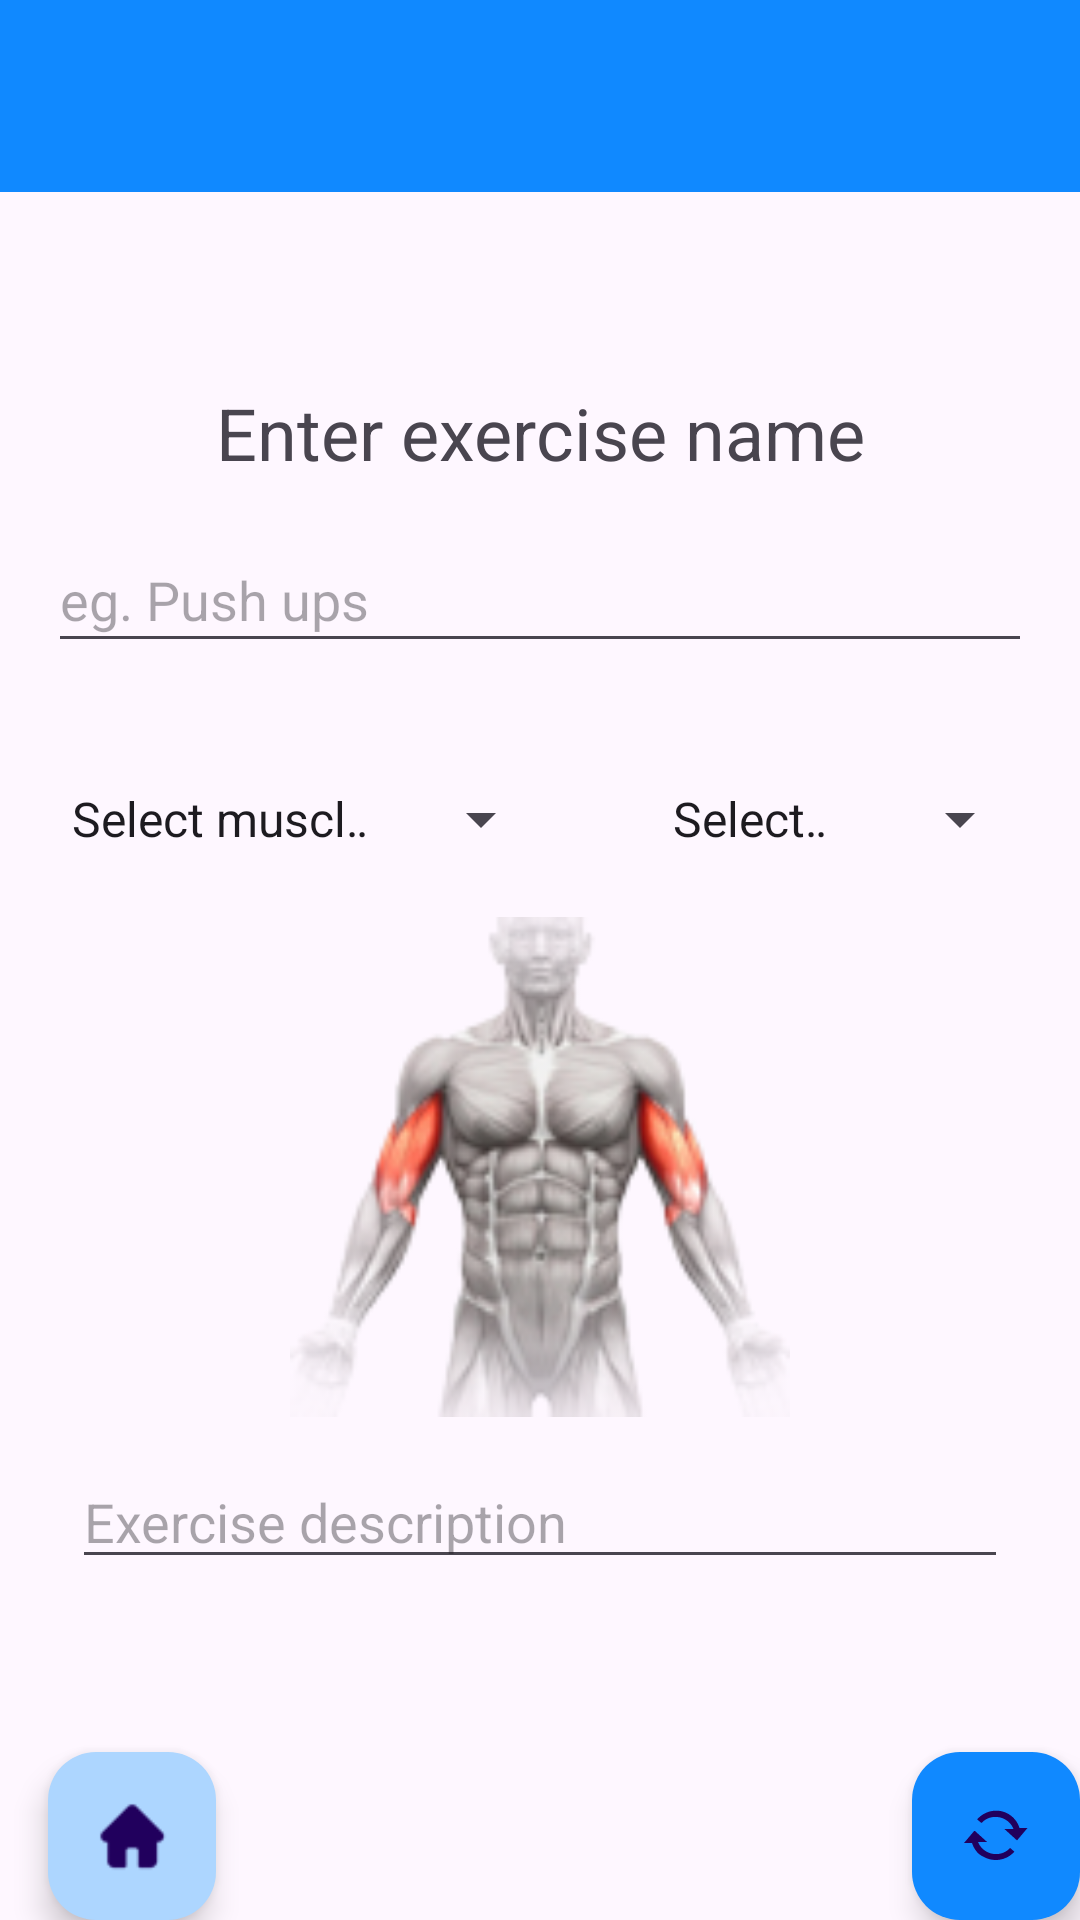

Screen size 1080 x 1920. Icon name, then its center in pixels as point (x, y):
sync: point (996, 1836)
